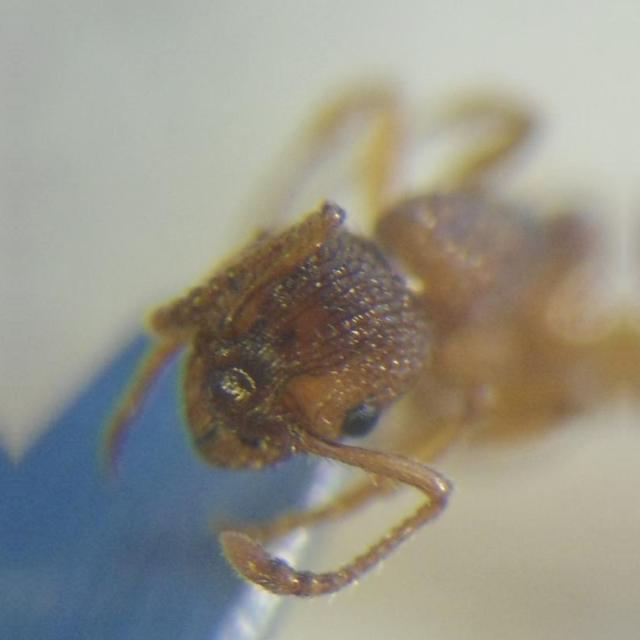Myrmica: (91, 113, 623, 581)
